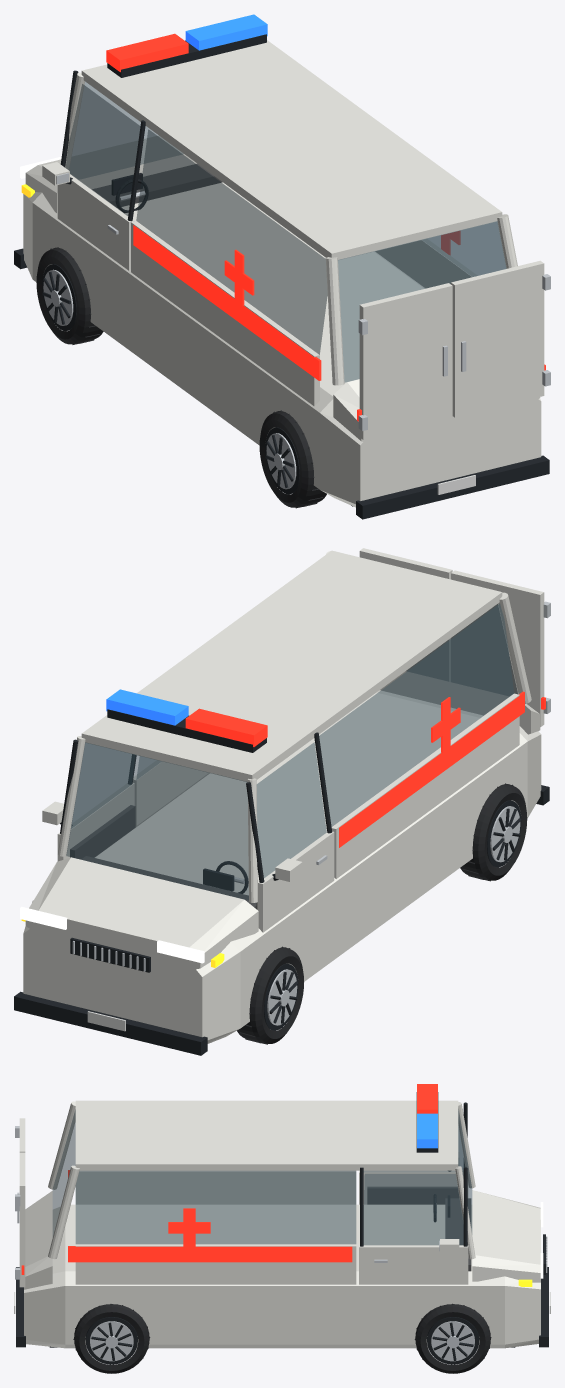
File: ambulance.glb
3 renders of one model, top to bottom at view 1: azimuth 30°, elevation 25°; view 2: azimuth 150°, elevation 25°; view 3: azimuth 270°, elevation 25°, orthographic. The views are drawn at different scales.
Parts seen in each view (by area): view 1: Body, Door_Rear_R, Door_Rear_L, Door_FL, Wheel_FL, Wheel_RL; view 2: Body, Door_FL, Door_Rear_L, Door_FR, Wheel_FL, Wheel_RL, Door_Rear_R; view 3: Body, Door_FR, Wheel_FR, Wheel_RR, Door_FL, Door_Rear_R.
Part boxes in pixels (bbox=[...]): Body: bbox=[14, 14, 549, 519]; Door_Rear_R: bbox=[451, 260, 550, 417]; Door_Rear_L: bbox=[358, 283, 452, 439]; Door_FL: bbox=[42, 70, 145, 270]; Wheel_FL: bbox=[36, 247, 103, 344]; Wheel_RL: bbox=[259, 410, 326, 508]; Body: bbox=[14, 550, 549, 1055]; Door_FL: bbox=[246, 732, 334, 932]; Door_Rear_L: bbox=[451, 570, 550, 727]; Door_FR: bbox=[42, 739, 136, 861]; Wheel_FL: bbox=[237, 946, 303, 1044]; Wheel_RL: bbox=[460, 783, 527, 881]; Door_Rear_R: bbox=[359, 548, 452, 681]; Body: bbox=[14, 1084, 550, 1348]; Door_FR: bbox=[359, 1167, 468, 1284]; Wheel_FR: bbox=[414, 1303, 491, 1373]; Wheel_RR: bbox=[73, 1304, 150, 1373]; Door_FL: bbox=[359, 1102, 468, 1204]; Door_Rear_R: bbox=[15, 1152, 25, 1287].
Size of what is drawn, in the model's own units: 2.83 by 3.18 by 6.96.
